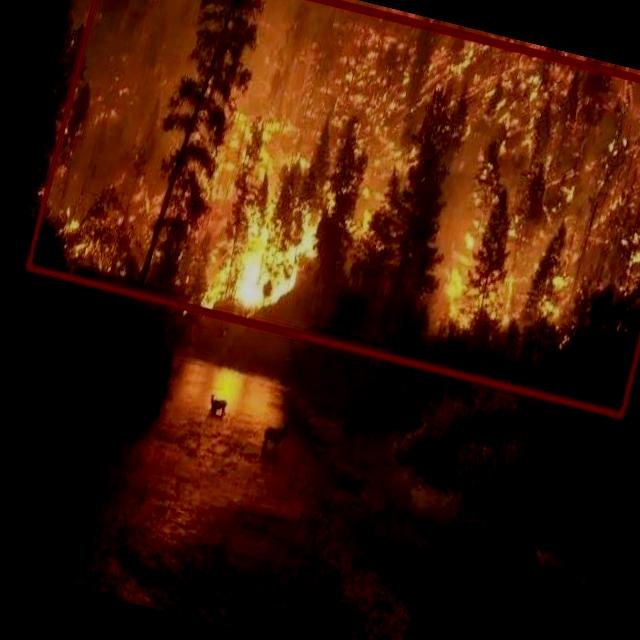fire: (27, 0, 640, 418)
